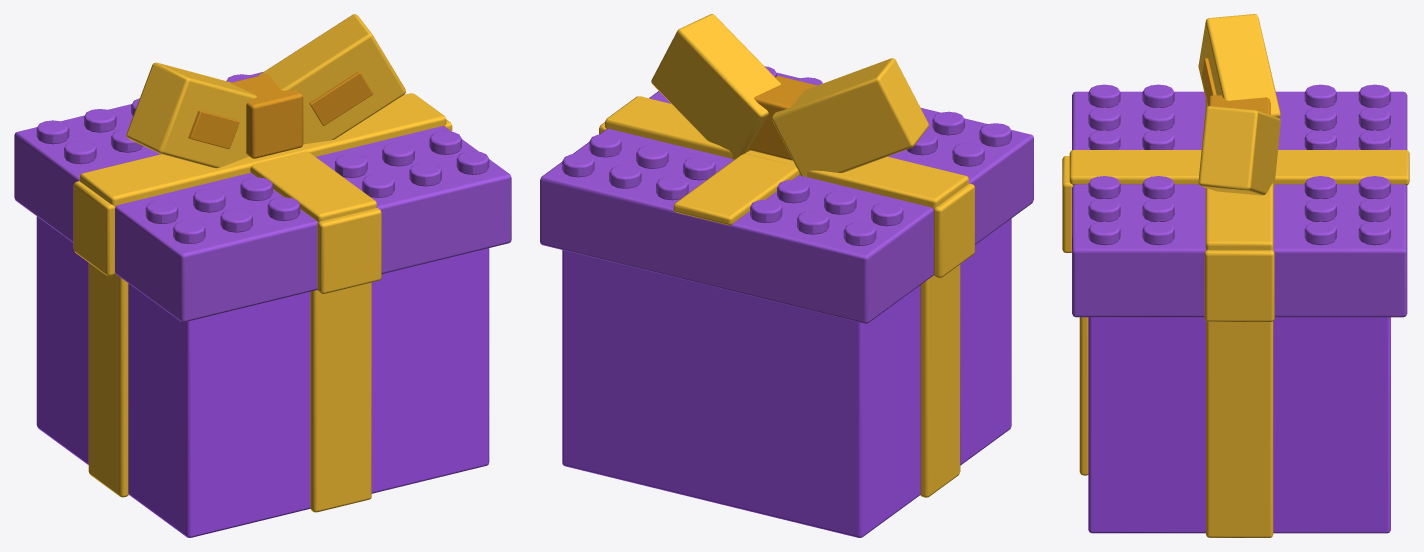
The model's file is Rewards.fbx.
3 renders of one model, left to right at view 1: azimuth 30°, elevation 25°; view 2: azimuth 150°, elevation 25°; view 3: azimuth 270°, elevation 25°, orthographic.
Visible parts, largest first — view 1: Rewards_SmoothPlastic, Rewards_Foil; view 2: Rewards_SmoothPlastic, Rewards_Foil; view 3: Rewards_SmoothPlastic, Rewards_Foil.
Part boxes in pixels (<box>): Rewards_SmoothPlastic: <box>14,72,511,537</box>; Rewards_Foil: <box>73,14,452,512</box>; Rewards_SmoothPlastic: <box>540,66,1033,537</box>; Rewards_Foil: <box>599,14,974,497</box>; Rewards_SmoothPlastic: <box>1072,84,1407,533</box>; Rewards_Foil: <box>1062,14,1409,537</box>.
Size of the model in its own units: 1.46 by 1.63 by 1.29.
2 materials, 2 textured.
